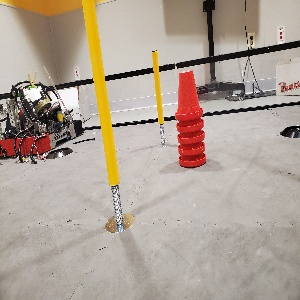Red_5: (173, 72, 210, 172)
